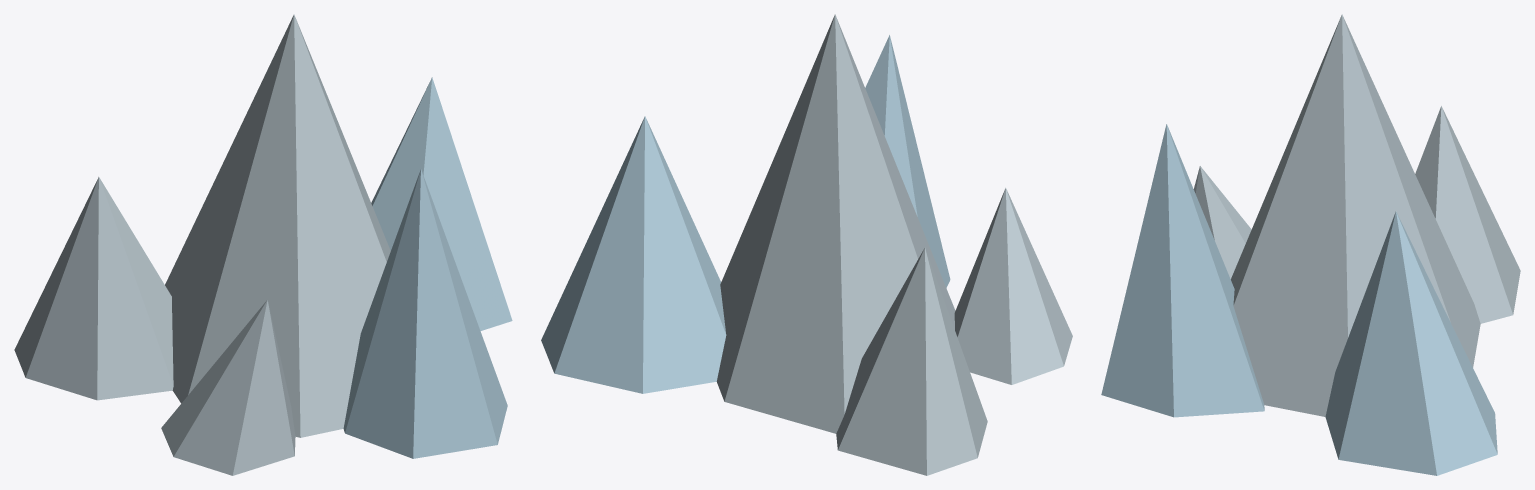
Rendered from IceRock.fbx.
3 renders of one model, left to right at view 1: azimuth 30°, elevation 25°; view 2: azimuth 150°, elevation 25°; view 3: azimuth 270°, elevation 25°, orthographic. The views are drawn at different scales.
Visible parts, largest first — view 1: IceRock; view 2: IceRock; view 3: IceRock.
Part boxes in pixels (x1,y1,x2,y2): IceRock: [14, 14, 512, 475]; IceRock: [541, 14, 1072, 475]; IceRock: [1101, 14, 1520, 475].
Size of the model in its own units: 3.48 by 2.6 by 2.87.
